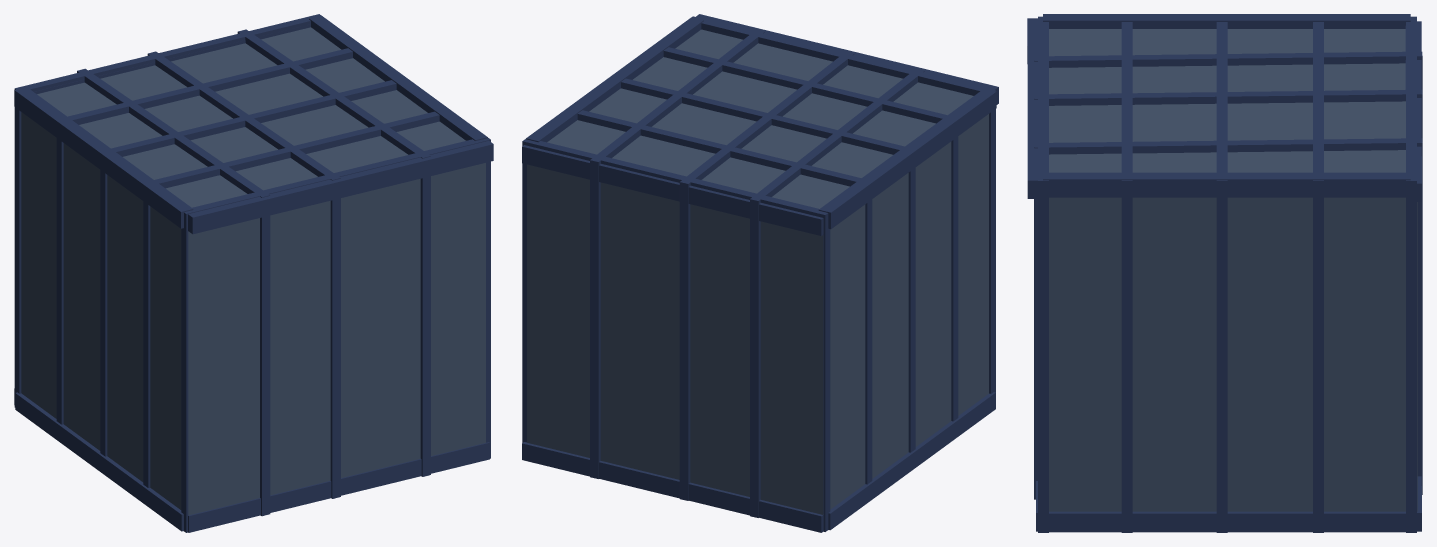
The model's file is container.fbx.
3 views of the same model, side by side, from view 1: azimuth 30°, elevation 25°; view 2: azimuth 150°, elevation 25°; view 3: azimuth 270°, elevation 25° (orthographic). The views are drawn at different scales.
Parts seen in each view (by area): view 1: Cube; view 2: Cube; view 3: Cube.
Boxes of the visible parts, box(x1,y1,x2,y2) form: Cube: box(14, 14, 493, 532); Cube: box(522, 14, 998, 532); Cube: box(1027, 14, 1422, 532).
Size of the model in its own units: 207 by 205 by 208.
